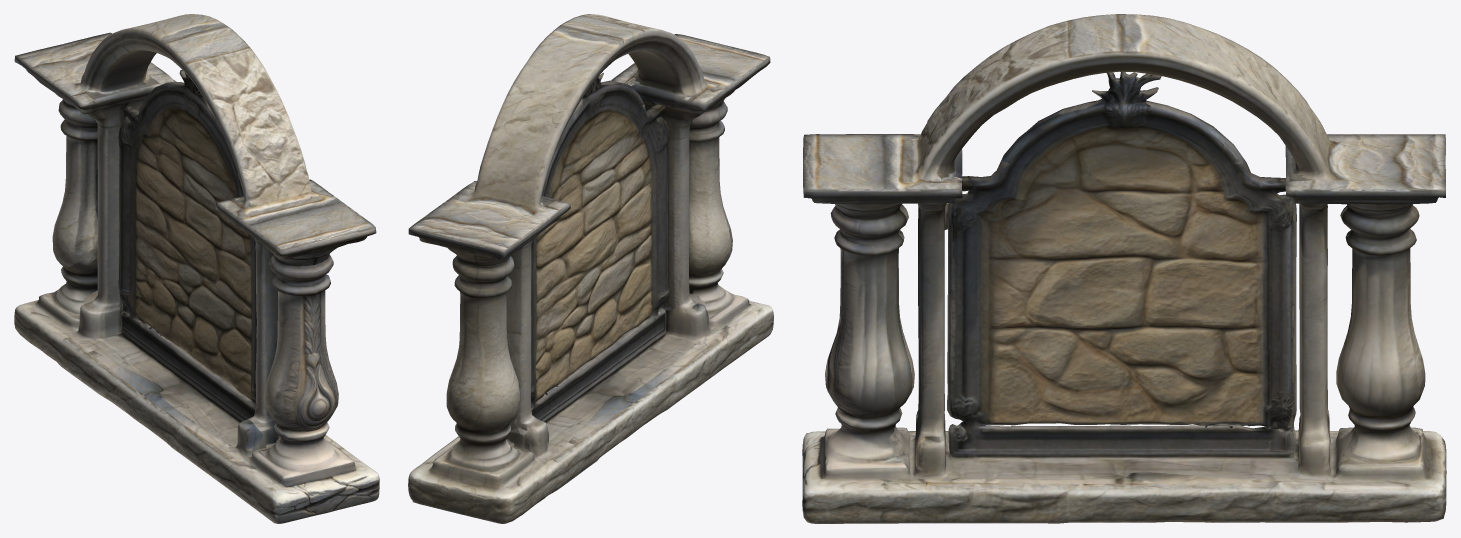
3 views of the same model, side by side, from view 1: azimuth 30°, elevation 25°; view 2: azimuth 150°, elevation 25°; view 3: azimuth 270°, elevation 25° (orthographic). The views are drawn at different scales.
Size of the model in its own units: 0.4613 by 1.59 by 2.
Materials: 1 (1 with a texture image).
